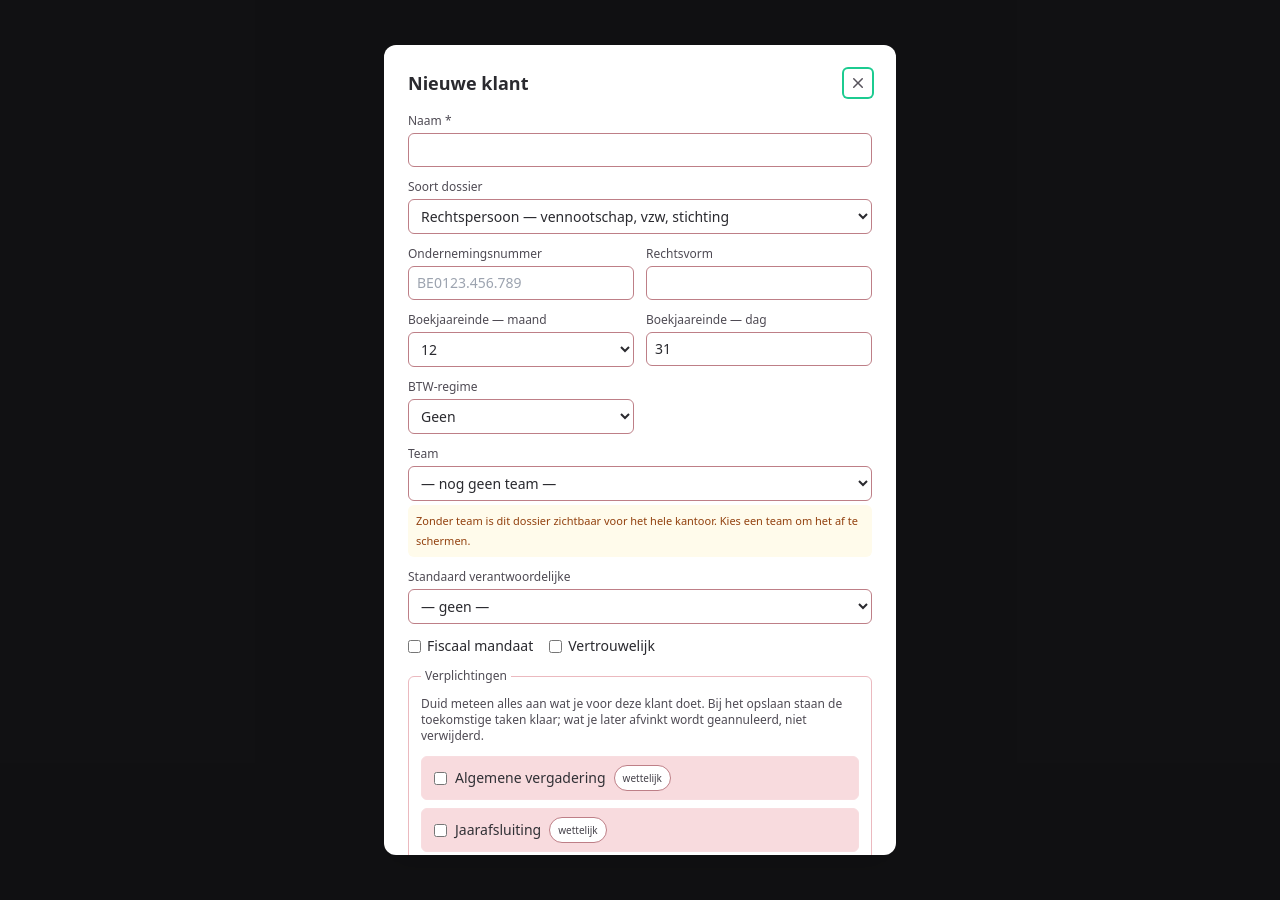
Test: ClientFormModal — vertrouwelijk ⇒ verplichte standaard verantwoordelijke (§7 decision 4) › blocks submit with a clear error when vertrouwelijk is checked but no responsible employee is chosen
In the field labelled "Naam *": (640, 150) x1=408 y1=133 x2=872 y2=167, type "Confidential Client BV"
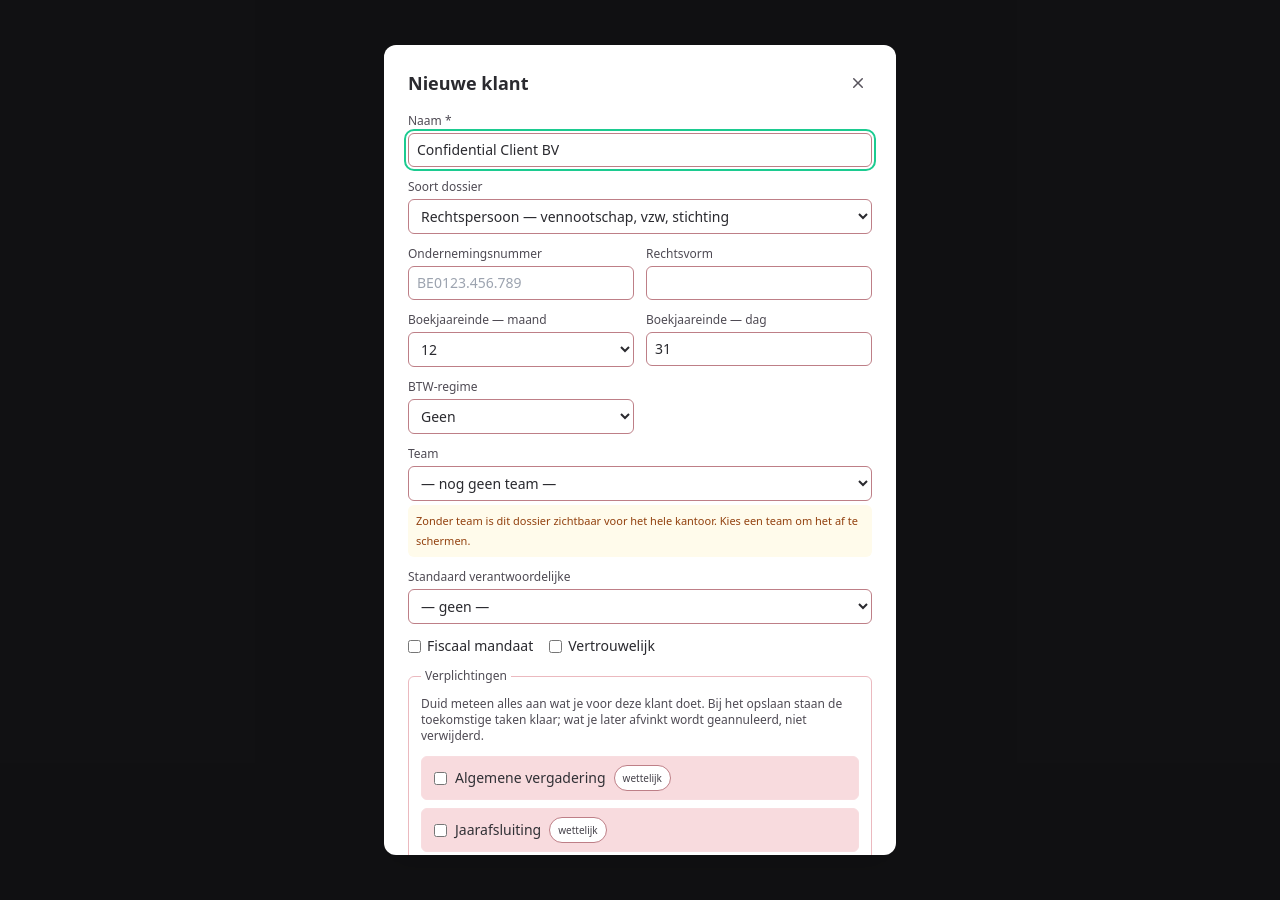
Click the checkbox labelled "Vertrouwelijk": click(556, 646) x1=549 y1=640 x2=562 y2=652
(page scrolled)
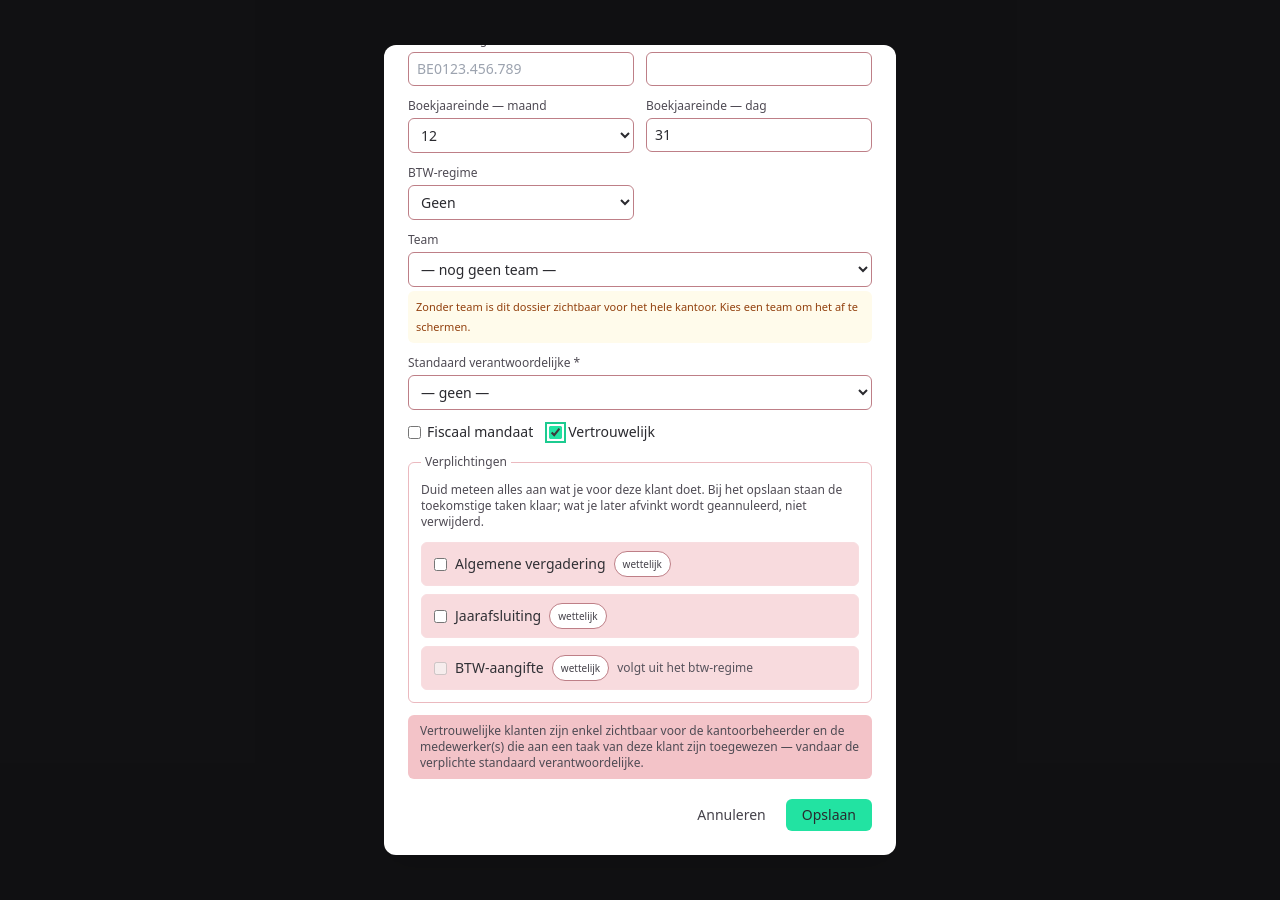
Click the button "Opslaan": click(829, 815) x1=786 y1=799 x2=872 y2=831
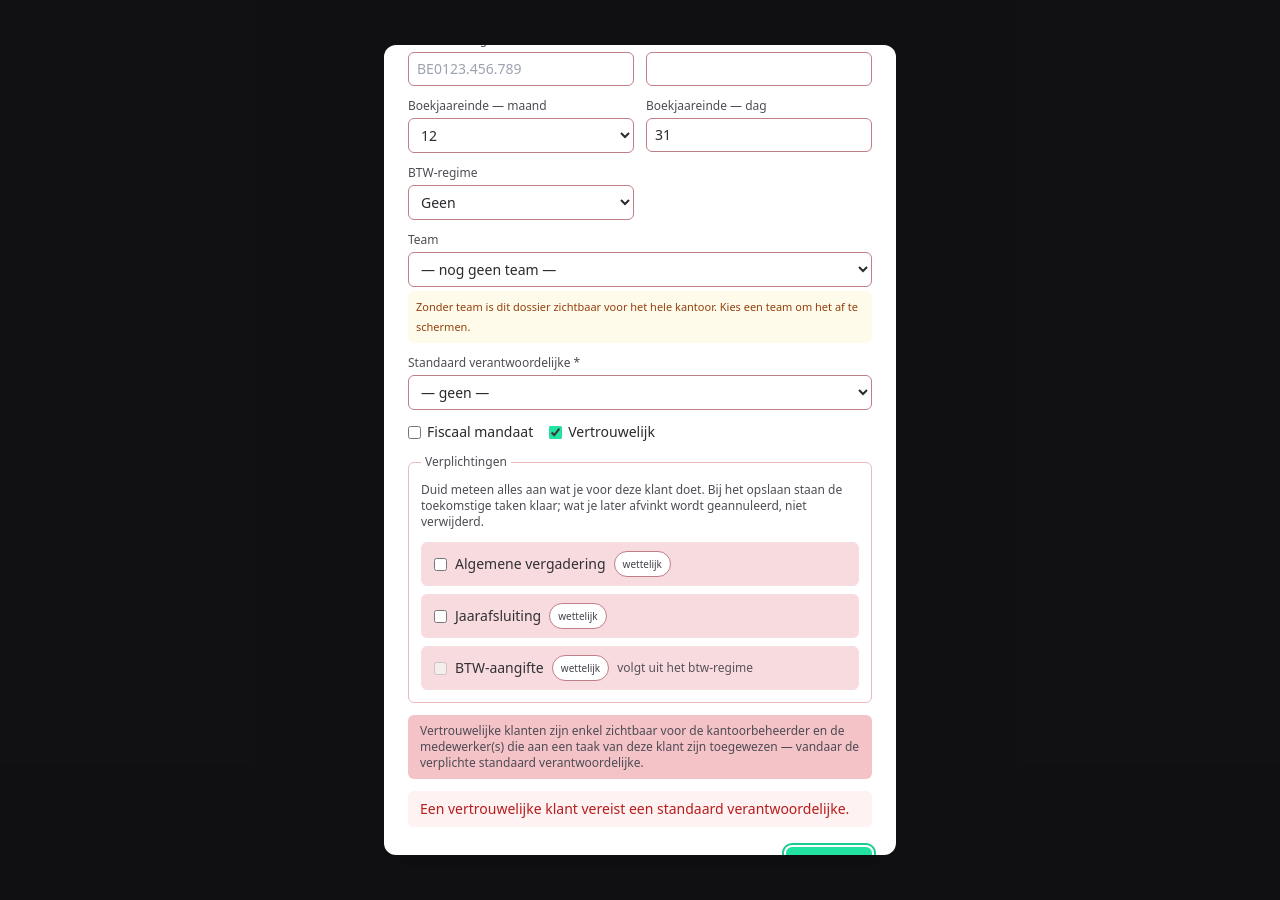
Result: the message reads "Een vertrouwelijke klant vereist een standaard verantwoordelijke." at x1=420 y1=799 x2=849 y2=818
